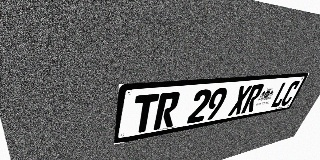2: (187, 89, 213, 124)
9: (203, 87, 229, 121)
C: (279, 80, 301, 106)
L: (269, 81, 292, 108)
R: (153, 92, 181, 130), (241, 84, 265, 114)
T: (131, 93, 159, 134)
X: (228, 85, 253, 116)
